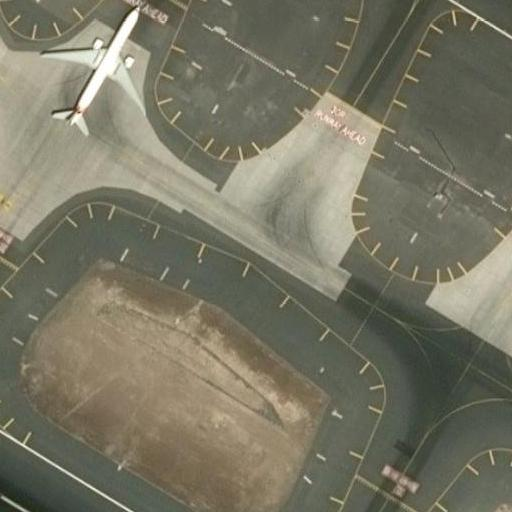Aircraft: (30, 0, 155, 143)
